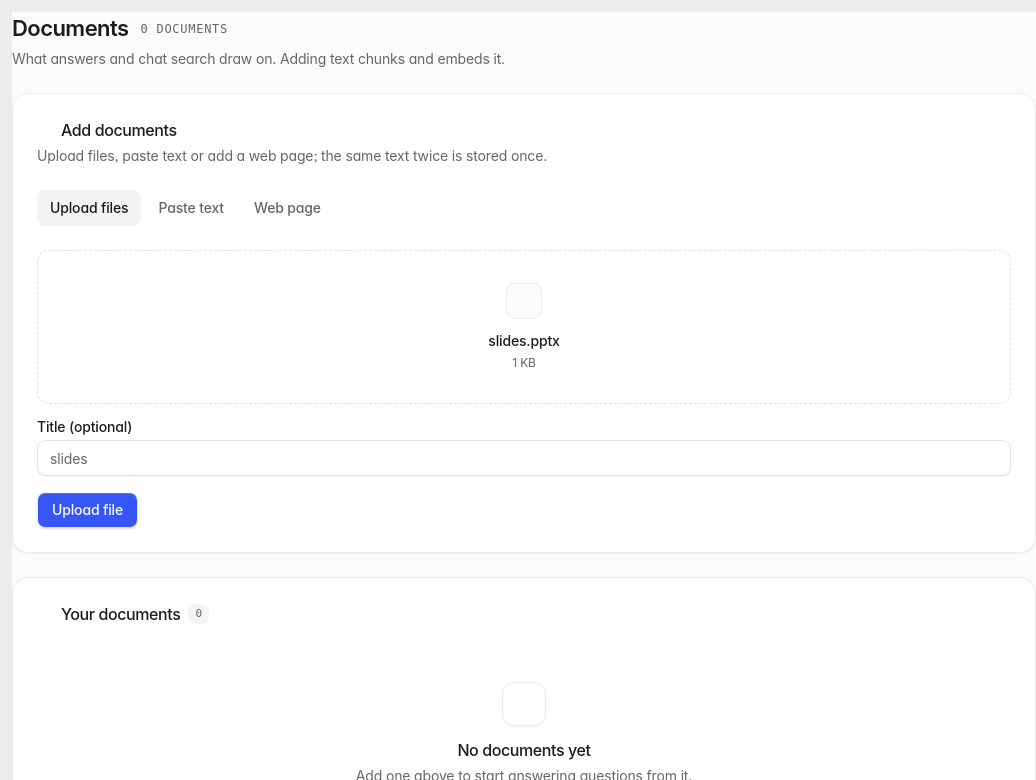
DocumentsContainer (mocked API) › a wrong type or a file over 2 MB is refused before anything is sent
Earlier steps of the test are not shown.
Later steps or results of the test are not shown.
Expected: the text "No documents yet" is shown, top-left (457, 738), bottom-right (591, 762)
Click the button "Upload file": x=88, y=510 top-left (37, 492), bottom-right (138, 528)
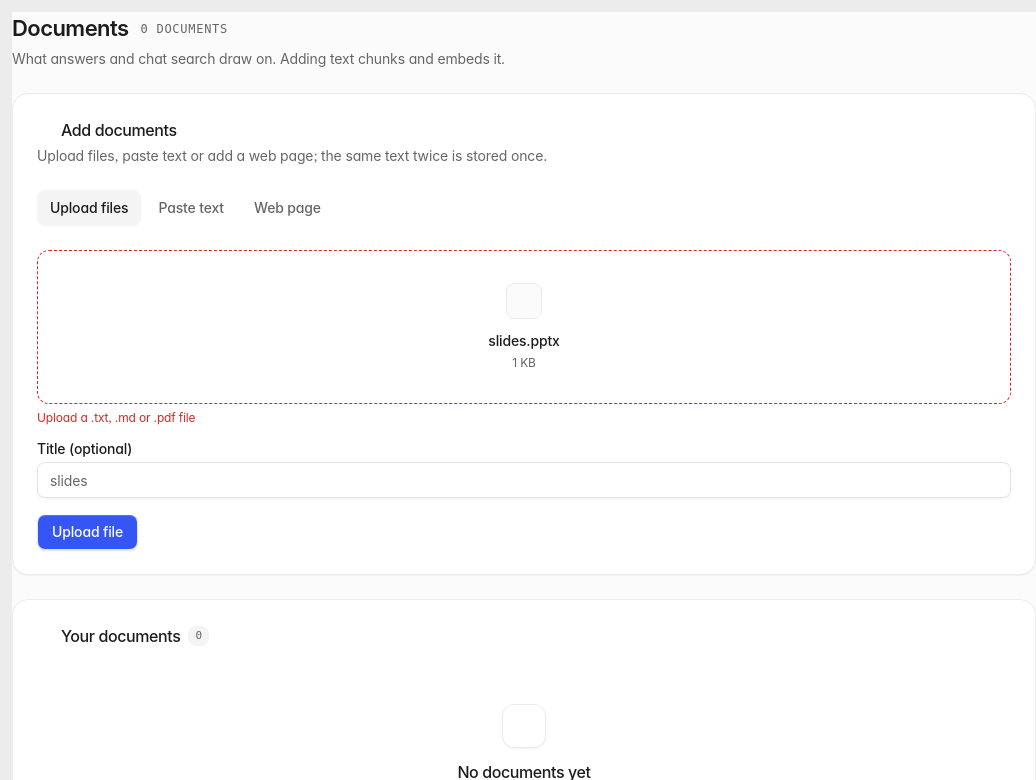
Result: the text "Upload a .txt, .md or .pdf file" is shown at top-left (37, 410), bottom-right (196, 425)
